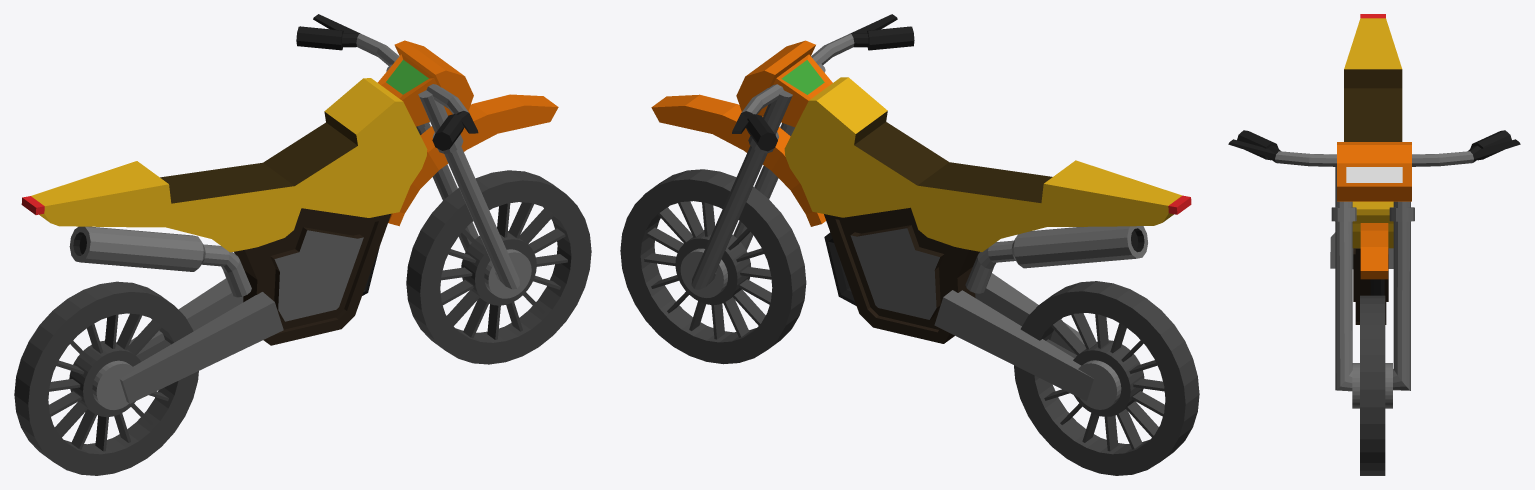
The model's file is bike2.fbx.
The picture shows the model from 3 angles, left to right: view 1: azimuth 30°, elevation 25°; view 2: azimuth 150°, elevation 25°; view 3: azimuth 270°, elevation 25°; orthographic projection. The views are drawn at different scales.
Parts seen in each view (by area): view 1: Vert.002; view 2: Vert.002; view 3: Vert.002.
Part boxes in pixels (box(x1,y1,x2,y2)): Vert.002: box(14, 14, 591, 475); Vert.002: box(620, 14, 1199, 475); Vert.002: box(1228, 14, 1520, 475).
Size of the model in its own units: 83.8 by 96.32 by 170.
